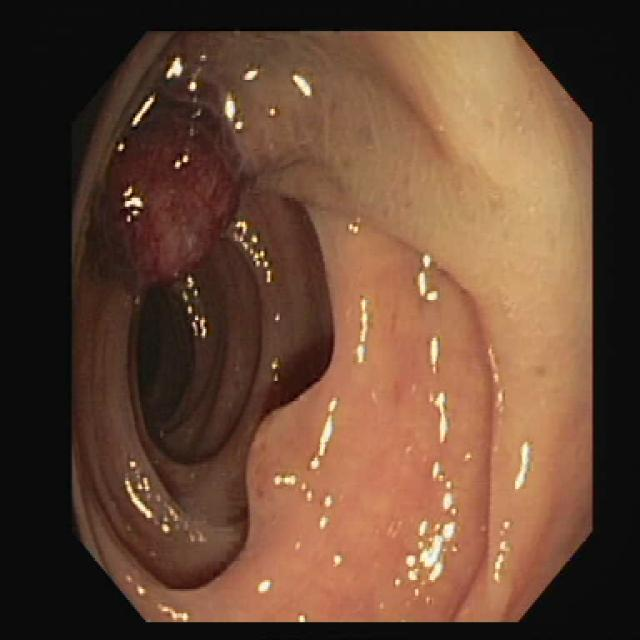tumor: (97, 93, 243, 278), (250, 402, 327, 504)
